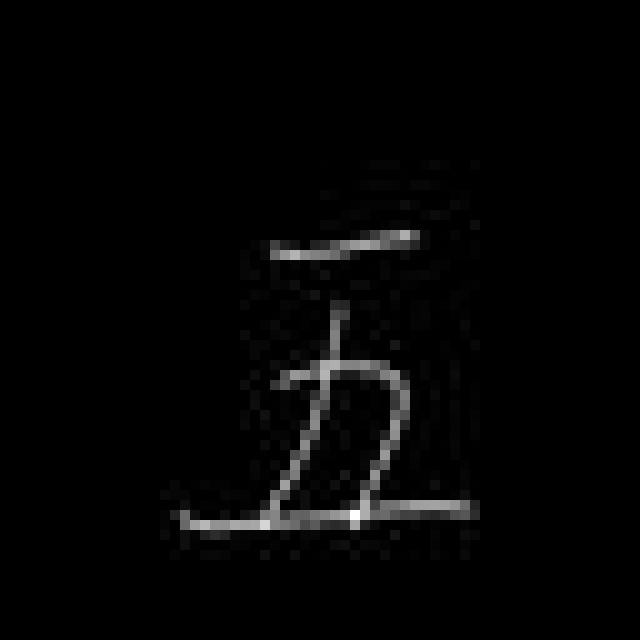5 -five-: (161, 208, 485, 555)
